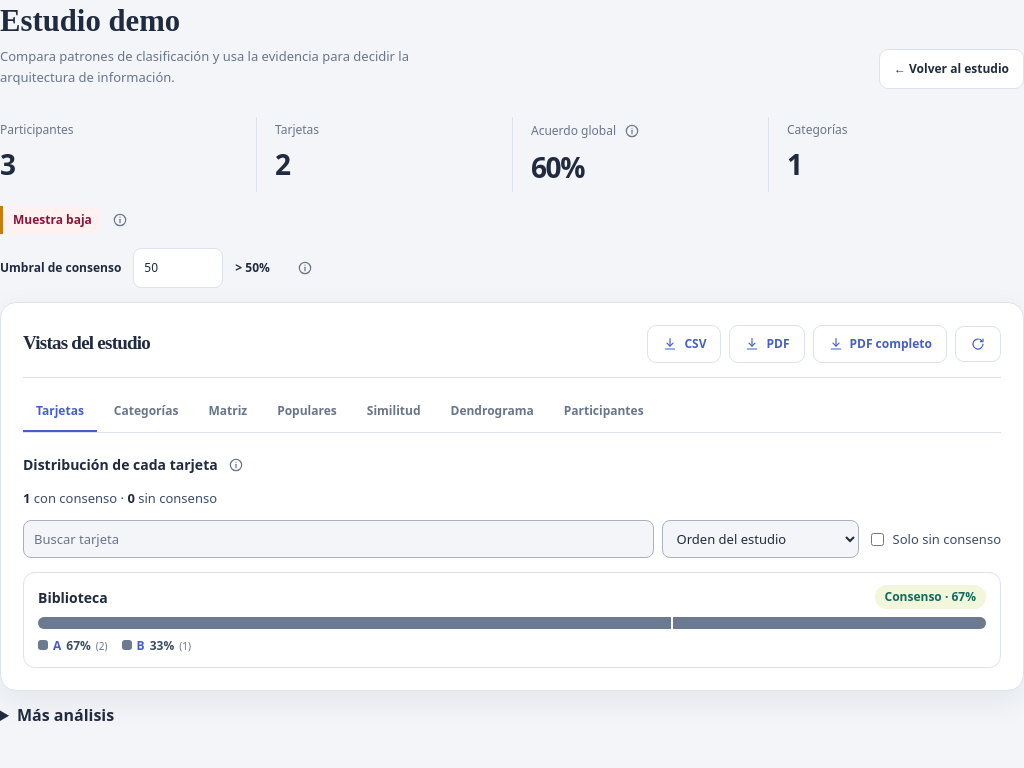
Scenario: CardSortingResultsPage · respuestas del participante › si el PDF falla, avisa con un mensaje
Click the button with aria-label "Descargar PDF de esta vista". click: (767,344)
box: [730,325,804,363]
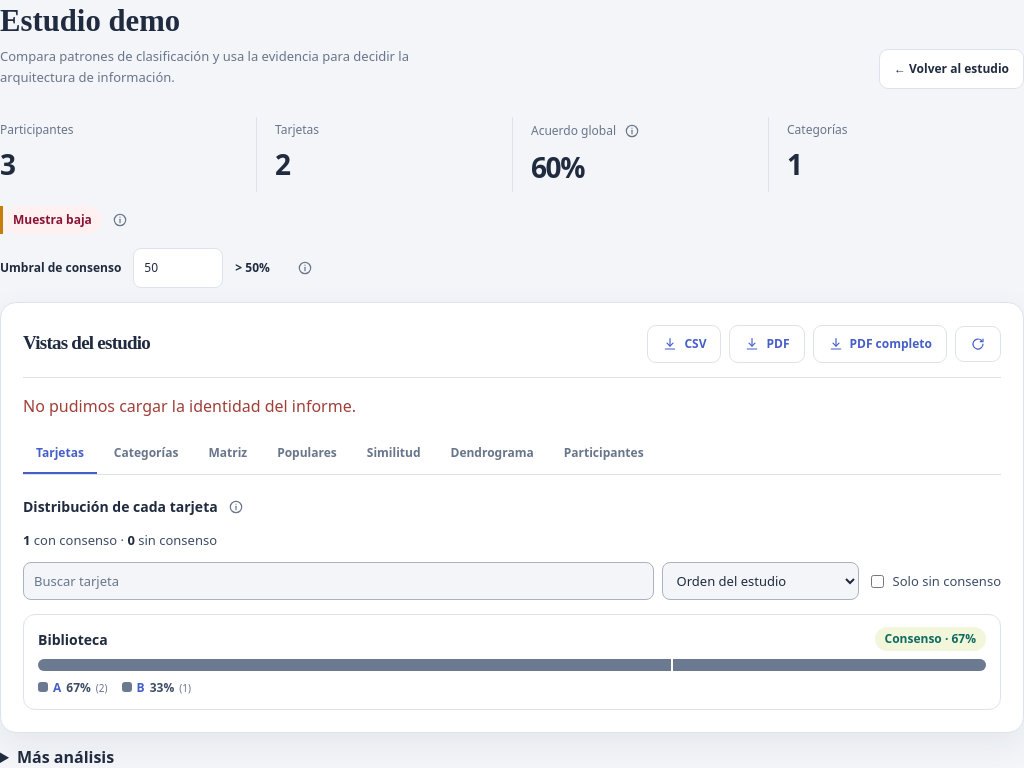
Expected: the message "No pudimos cargar la identidad del informe." is shown, [23,395,356,417]
